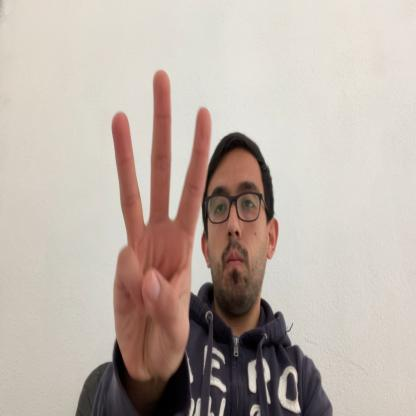W: (112, 69, 211, 383)
